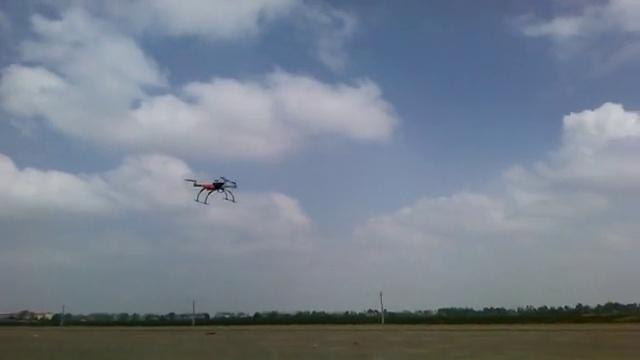drone: (181, 174, 237, 205)
